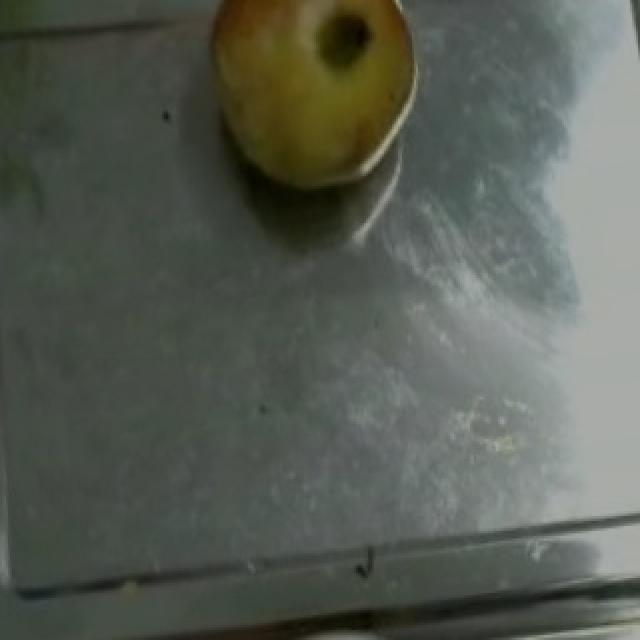fruit: (172, 0, 452, 213)
